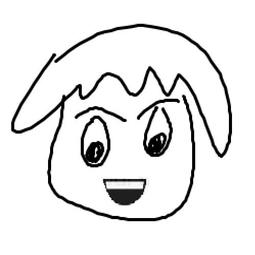eye: (140, 104, 176, 159), (78, 114, 110, 167)
frowning_eyebrow: (137, 95, 183, 121), (73, 102, 128, 122)
open_mouth: (94, 174, 152, 208)
